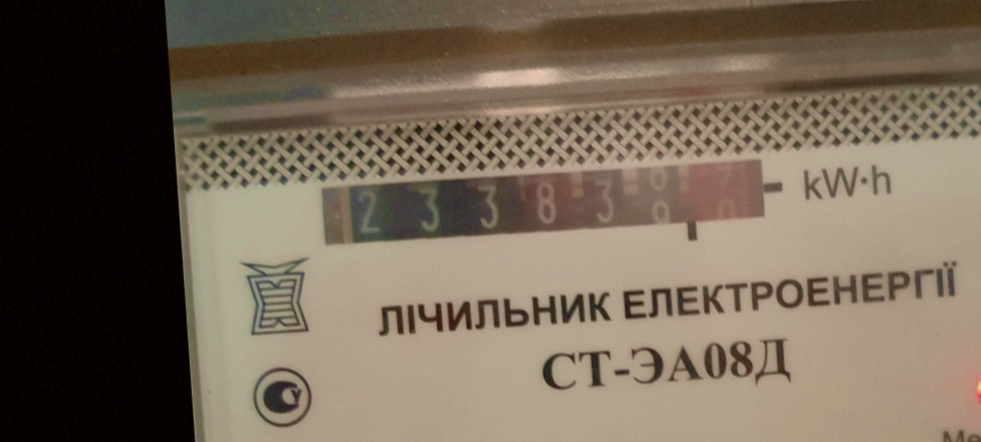0: (714, 193, 741, 219)
2: (354, 184, 385, 234)
3: (415, 181, 445, 233), (476, 179, 504, 231), (591, 173, 620, 223)
8: (533, 176, 561, 223), (645, 162, 675, 191)
9: (647, 193, 676, 224), (712, 157, 738, 187)
screen: (309, 142, 786, 267)
